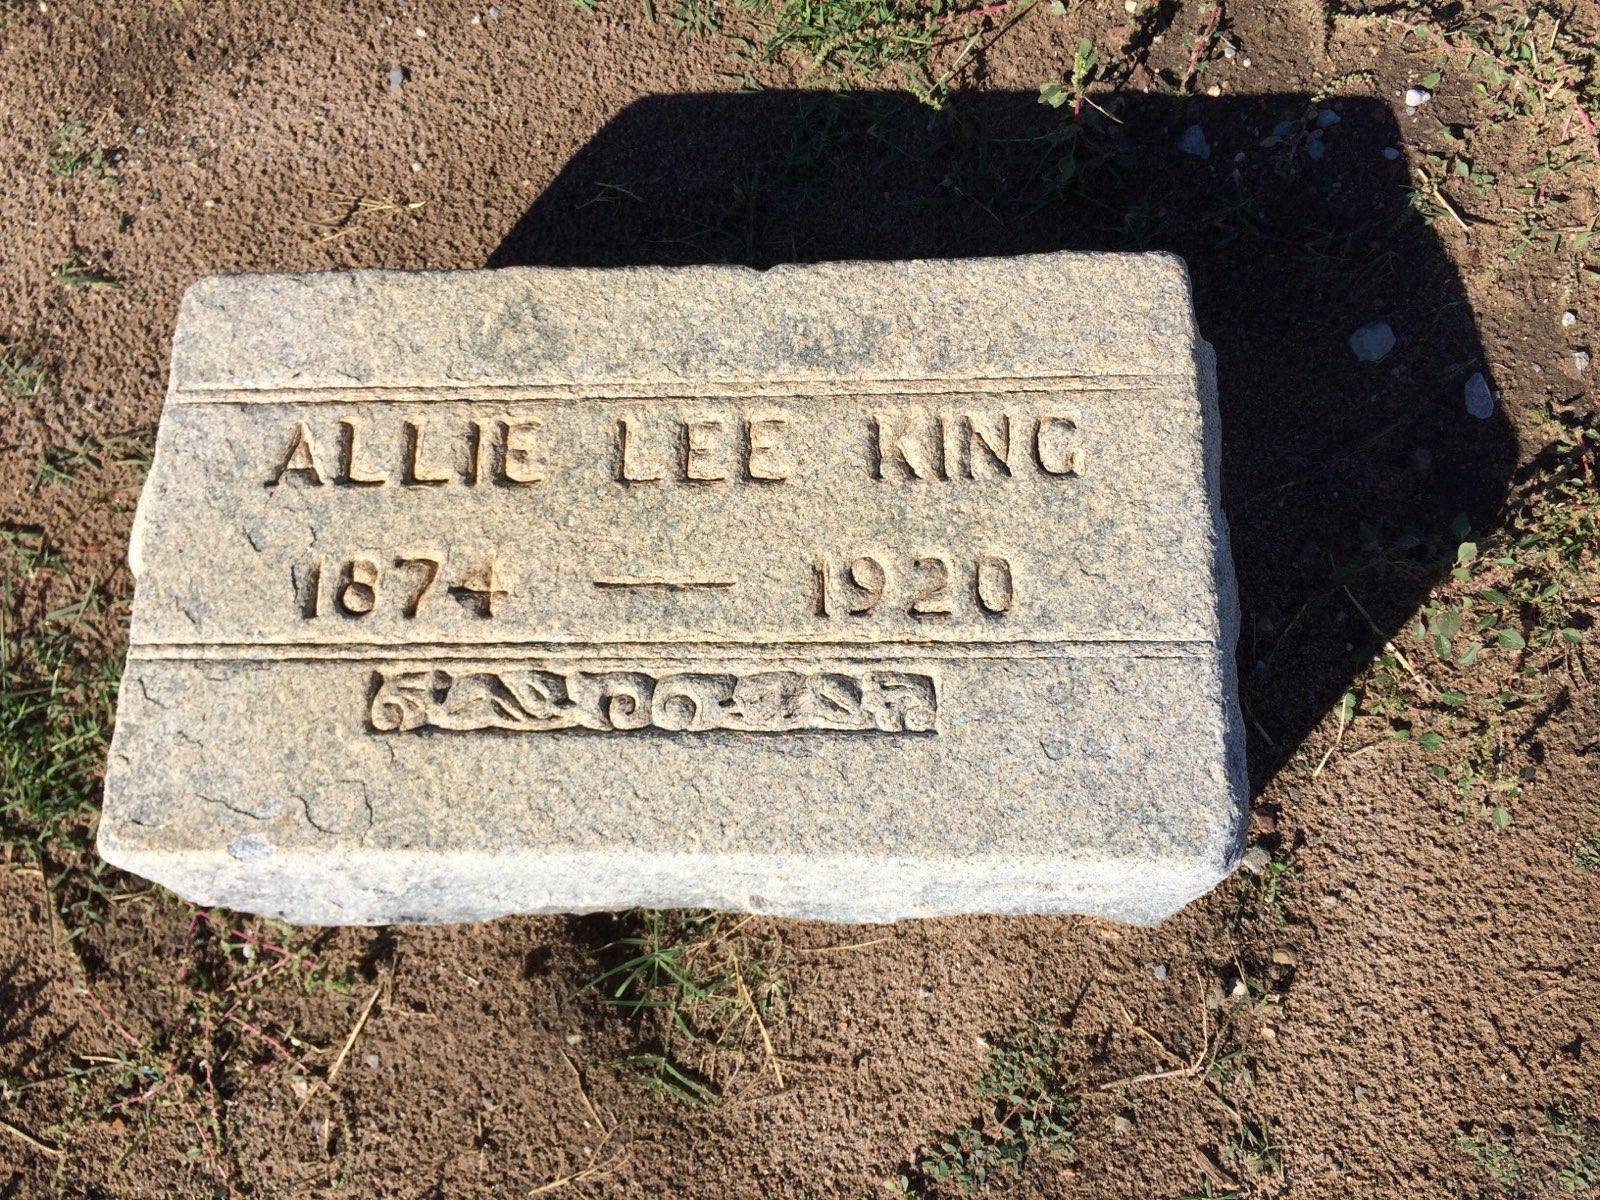flat: (96, 263, 1233, 948)
